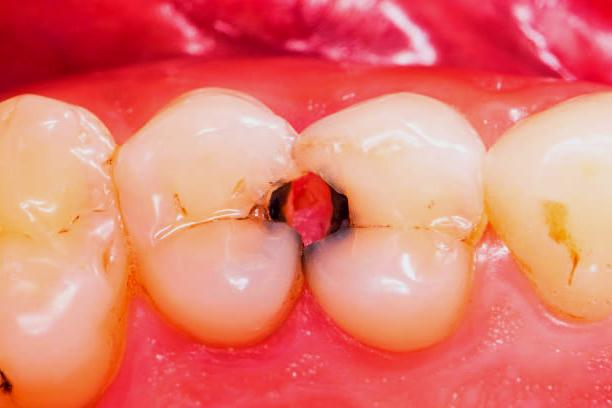Caries: (254, 157, 369, 261)
